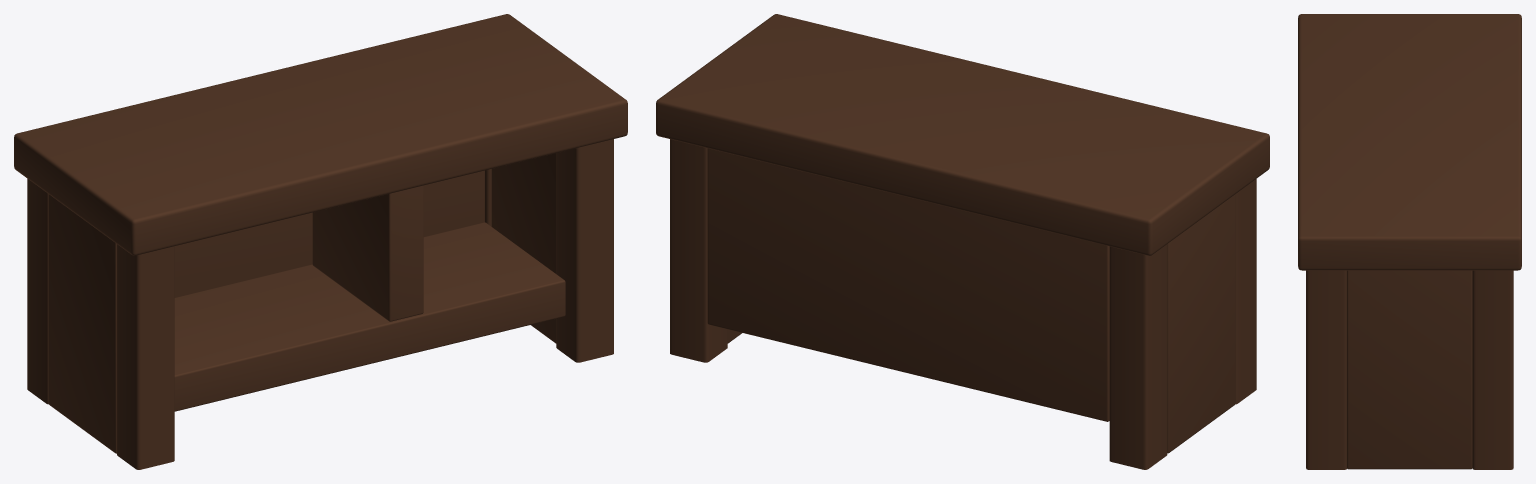
Rendered from Tv_stand.fbx.
3 views of the same model, side by side, from view 1: azimuth 30°, elevation 25°; view 2: azimuth 150°, elevation 25°; view 3: azimuth 270°, elevation 25° (orthographic). The views are drawn at different scales.
Visible parts, largest first — view 1: Tv_stand_starnick; view 2: Tv_stand_starnick; view 3: Tv_stand_starnick.
Boxes of the visible parts, x1,y1,x2,y2 form: Tv_stand_starnick: (14, 14, 627, 469); Tv_stand_starnick: (656, 14, 1269, 469); Tv_stand_starnick: (1298, 14, 1521, 469).
Size of the model in its own units: 1427 by 600 by 700.
